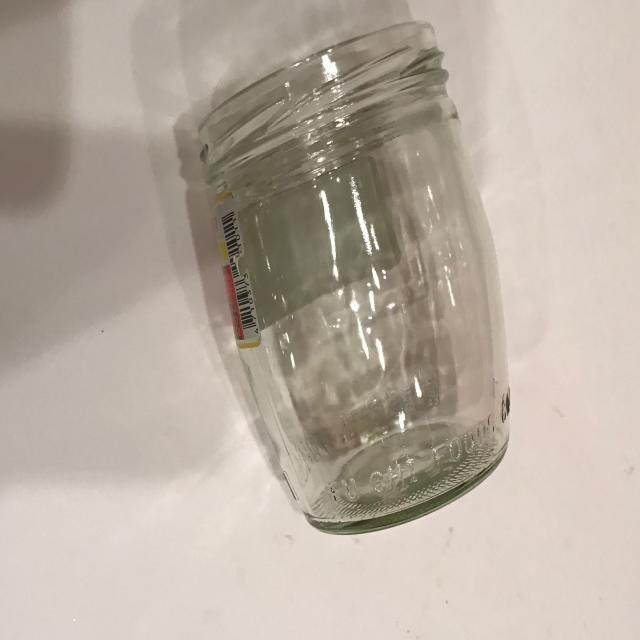glass: (198, 20, 511, 539)
